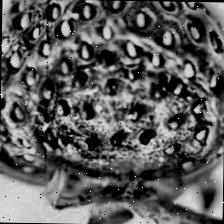Anthracnose Fruit Rot: (0, 17, 224, 191)
